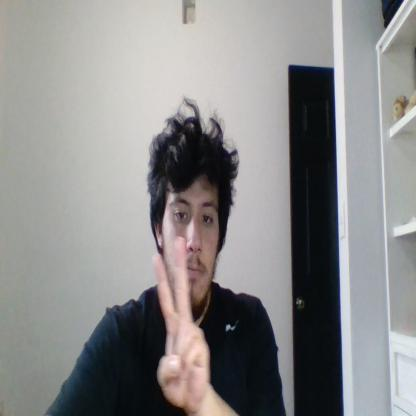V: (153, 236, 209, 410)
